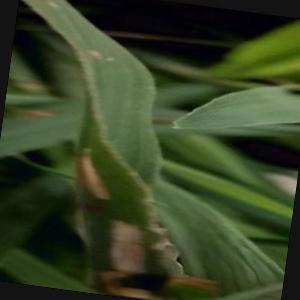Brown_Spot: (96, 207, 155, 280), (78, 147, 119, 198)
